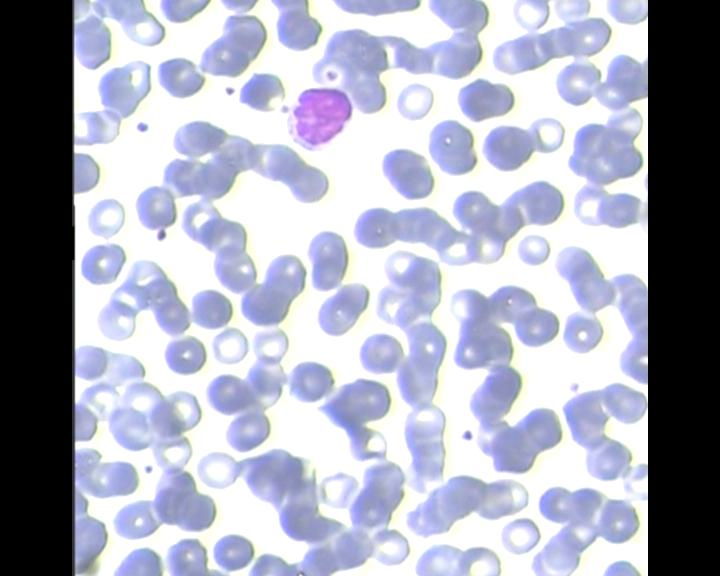lymp: (281, 81, 359, 153)
